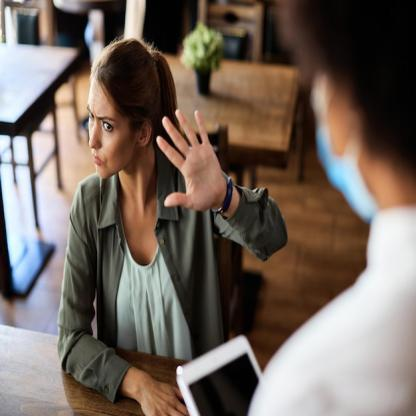stop: (155, 107, 225, 218)
